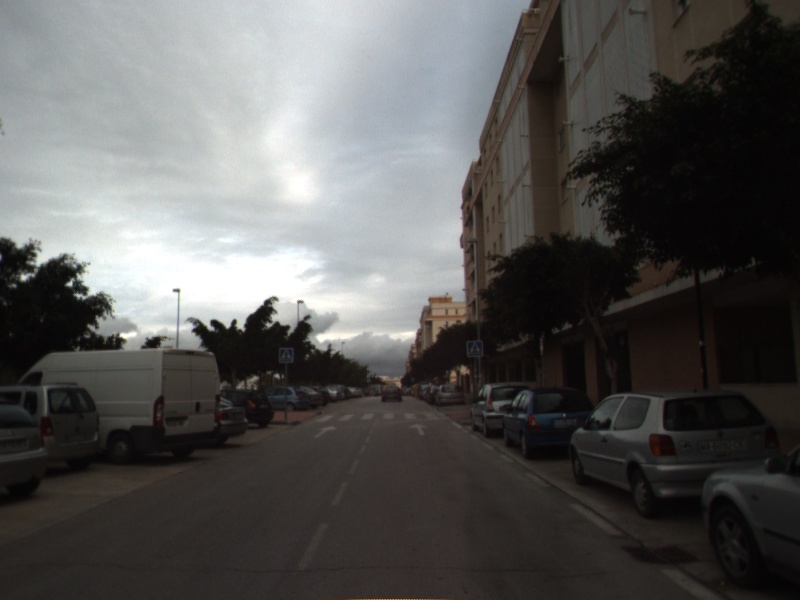STRAIGHT: (311, 423, 339, 440), (407, 421, 431, 437)
